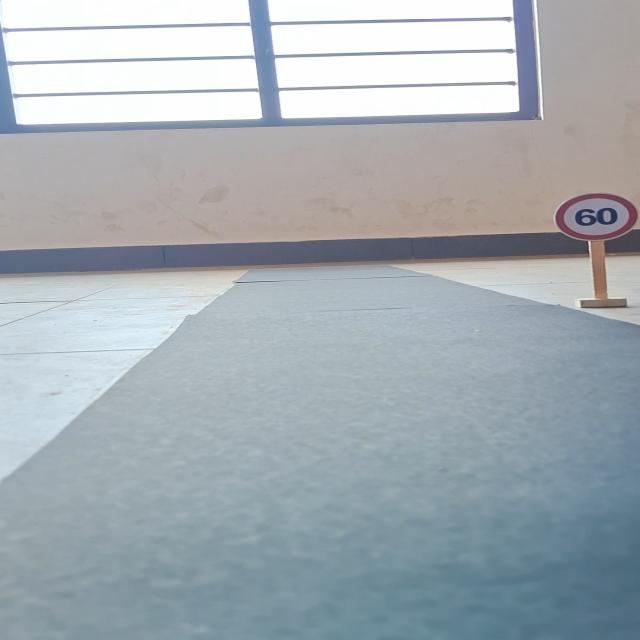Speed60: (554, 190, 638, 243)
